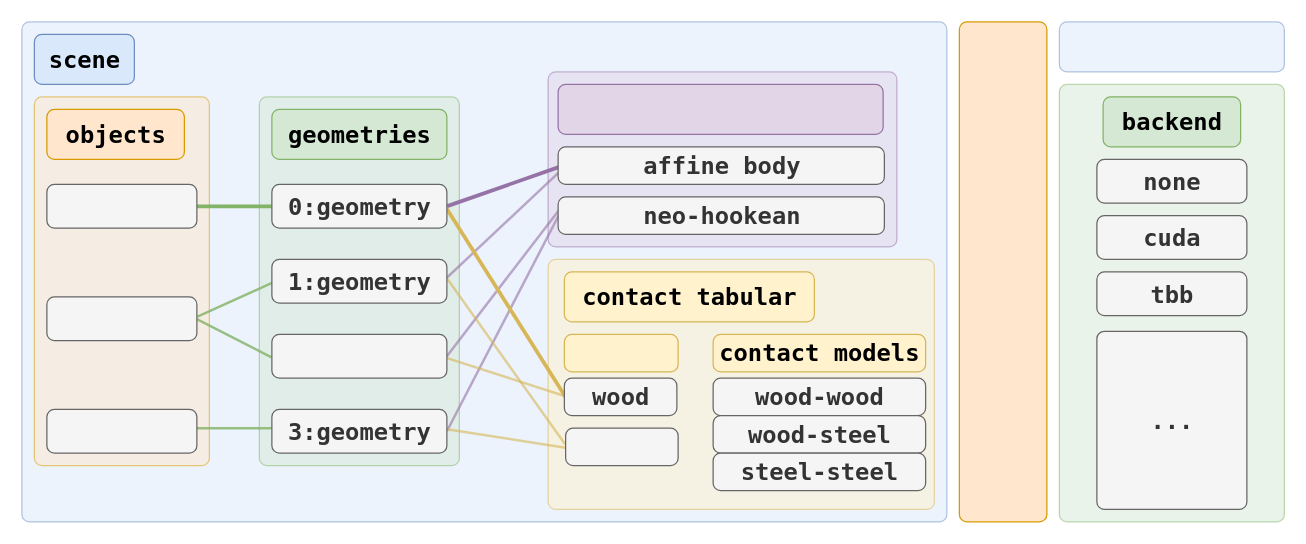
Image size: 1306x544. Some labels were removed from this diagram. Each missing label, with the centre of its shape:
"0:object" goes at point 121,205.
"1:object" goes at point 121,318.
"2:geometry" goes at point 359,355.
"2:object" goes at point 121,430.
"constitution tabular" goes at point 720,108.
"element" goes at point 620,352.
"Engine" goes at point 1171,46.
"steel" goes at point 621,446.
"world" goes at point 1002,271.
